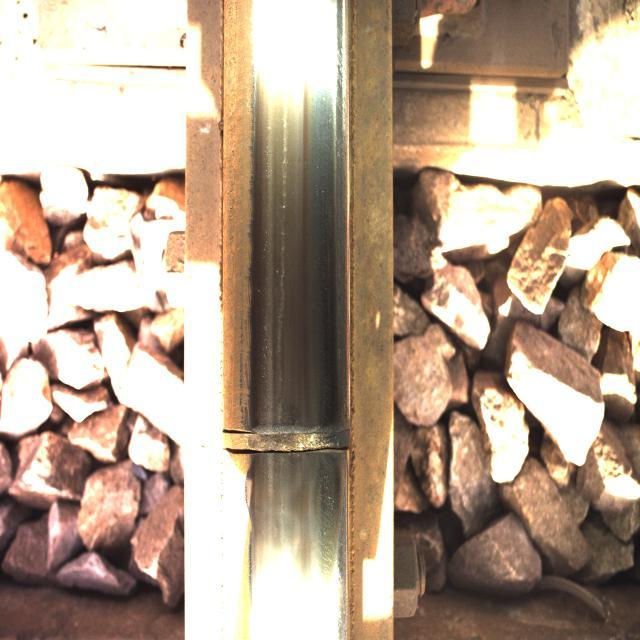spalling: (205, 377, 386, 508)
